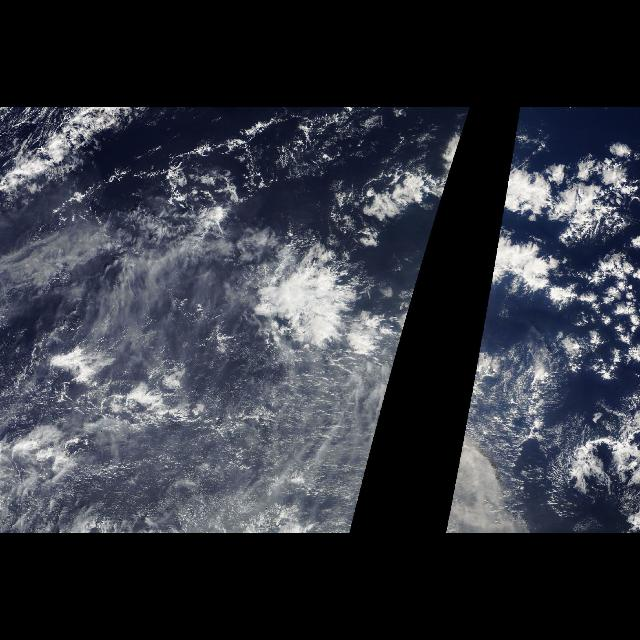Fish: (486, 158, 616, 302), (332, 158, 456, 302)
Sugar: (493, 340, 575, 514)
